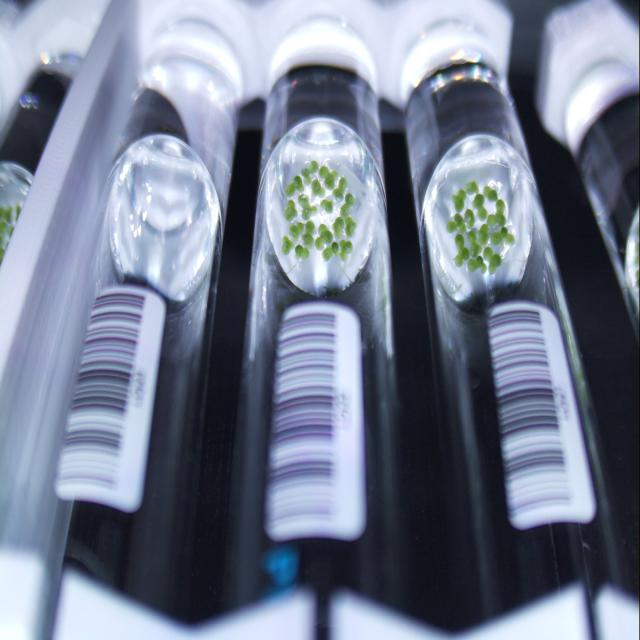Lemna-Gibba: (340, 193, 356, 237), (454, 233, 470, 267), (298, 193, 318, 220), (488, 198, 506, 228), (319, 165, 338, 190), (315, 223, 332, 250), (484, 247, 501, 274), (301, 160, 319, 185), (490, 227, 515, 245), (285, 175, 304, 197), (446, 213, 466, 233), (468, 255, 488, 274), (332, 177, 348, 200), (302, 220, 315, 247), (451, 188, 466, 211), (468, 232, 481, 257), (474, 193, 486, 220), (284, 198, 298, 221), (322, 243, 339, 260), (482, 185, 498, 202), (289, 222, 304, 240), (311, 178, 325, 197), (281, 235, 294, 255), (478, 223, 489, 245), (340, 240, 352, 260), (295, 243, 310, 259), (464, 208, 475, 228), (320, 198, 334, 213), (334, 217, 344, 237), (465, 180, 479, 193)
